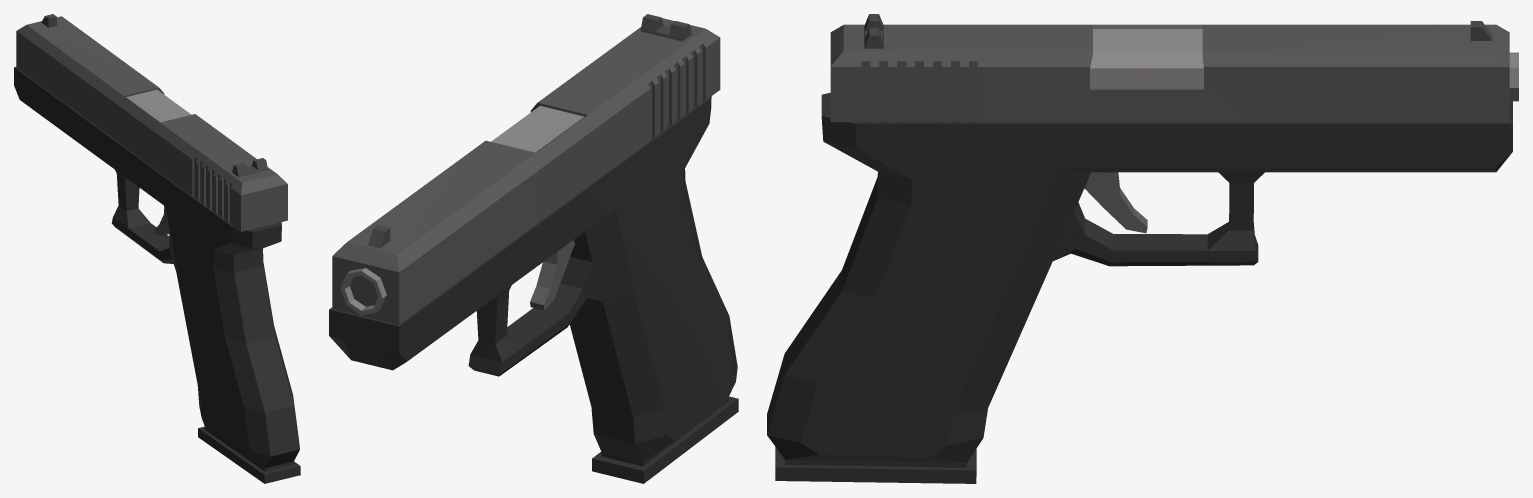
The model's file is Clock9mm.fbx.
3 views of the same model, side by side, from view 1: azimuth 30°, elevation 25°; view 2: azimuth 150°, elevation 25°; view 3: azimuth 270°, elevation 25° (orthographic). The views are drawn at different scales.
Parts seen in each view (by area): view 1: Grip, Slide; view 2: Grip, Slide, Trigger, Muzzle; view 3: Grip, Slide, Trigger.
Part boxes in pixels (left/top/right/bottom): Grip: left=14, top=67, right=300, bottom=483; Slide: left=16, top=14, right=287, bottom=231; Grip: left=329, top=96, right=738, bottom=483; Slide: left=332, top=14, right=720, bottom=324; Trigger: left=530, top=240, right=574, bottom=310; Muzzle: left=340, top=268, right=386, bottom=315; Grip: left=767, top=92, right=1512, bottom=483; Slide: left=830, top=14, right=1509, bottom=122; Trigger: left=1084, top=172, right=1147, bottom=233.
Size of the model in its own units: 2.18 by 12.54 by 19.14.
Materials: 1 (1 with a texture image).
